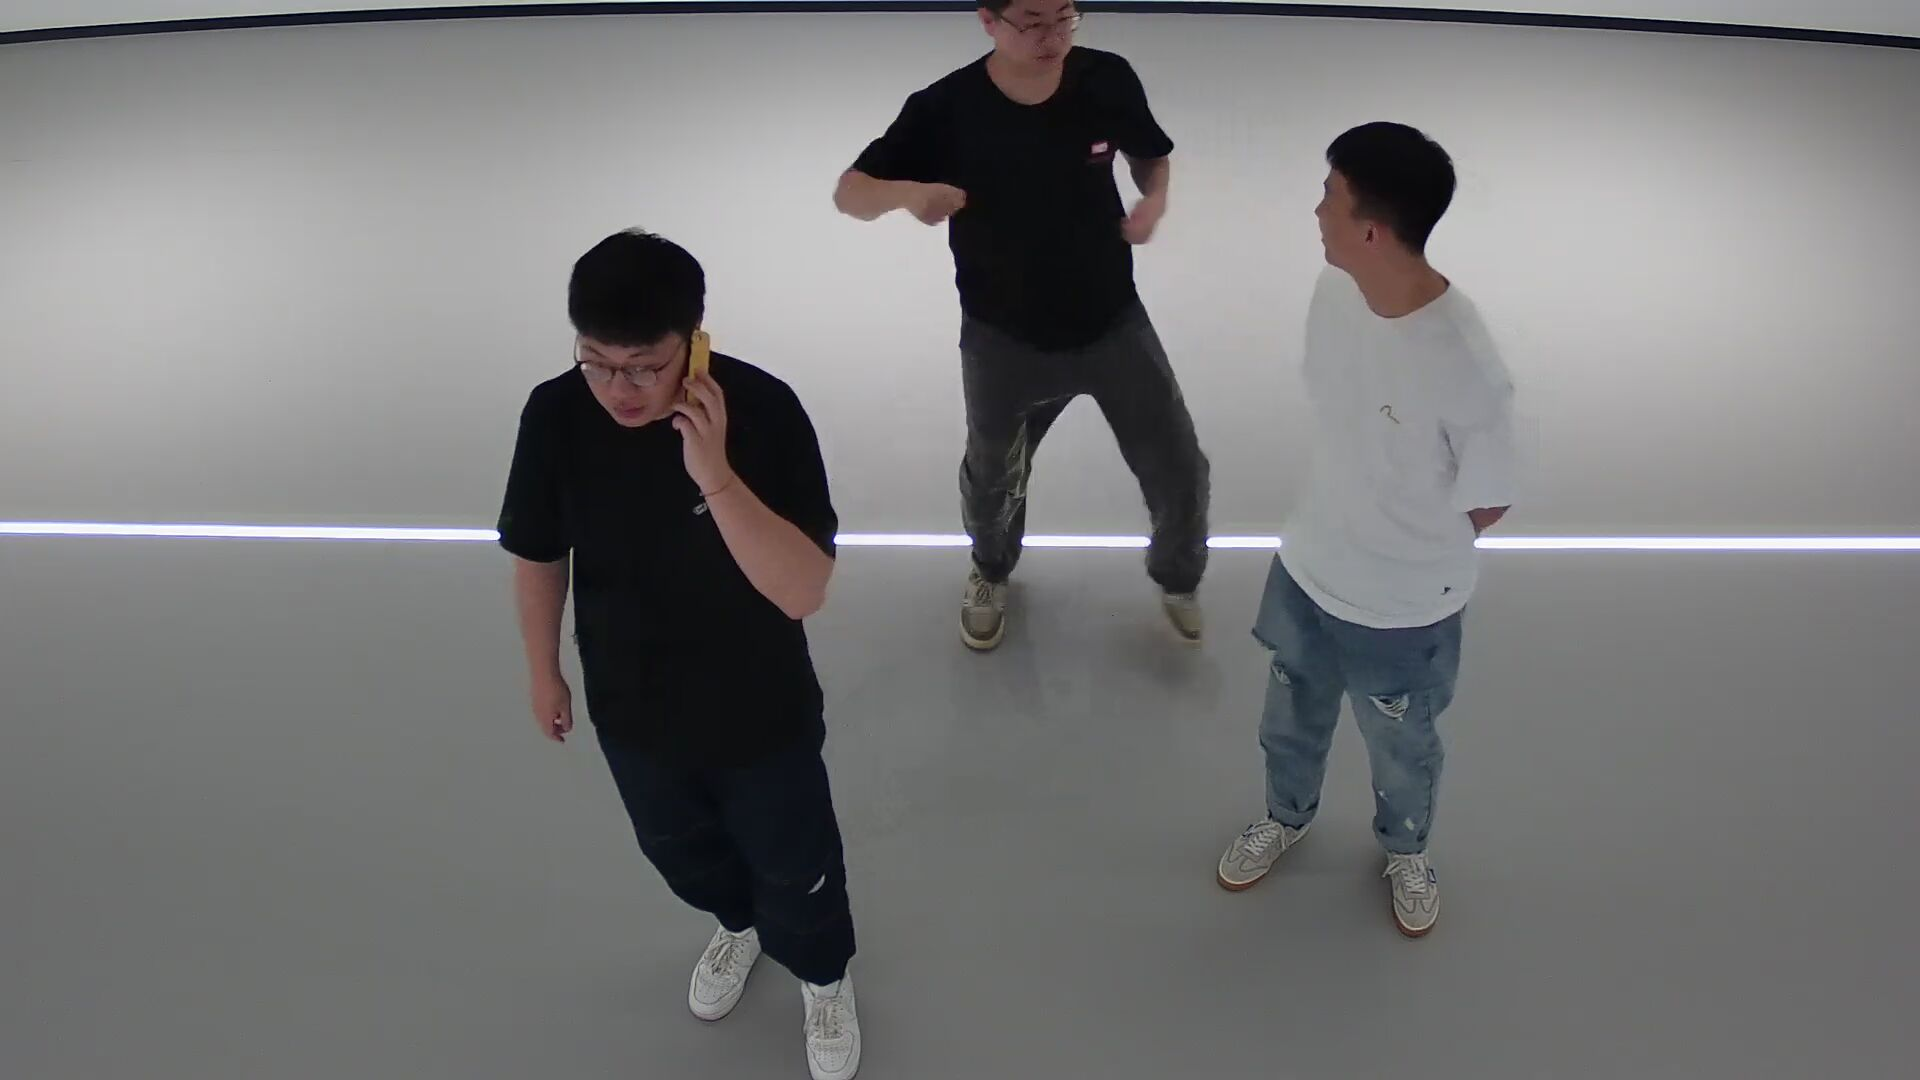normal: (472, 227, 885, 1080), (807, 5, 1236, 667), (1215, 100, 1513, 949)
